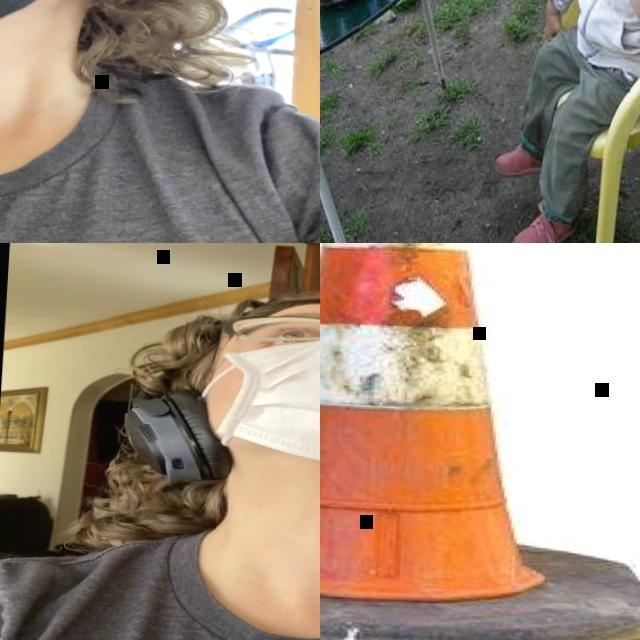Mask: (185, 321, 320, 477)
NO-Hardhat: (177, 280, 320, 324)
NO-Safety Vest: (0, 51, 320, 243), (0, 531, 320, 640), (570, 0, 640, 70)
Person: (0, 266, 320, 640), (0, 0, 320, 243), (485, 0, 640, 243)
Safety Cone: (320, 243, 640, 640)
